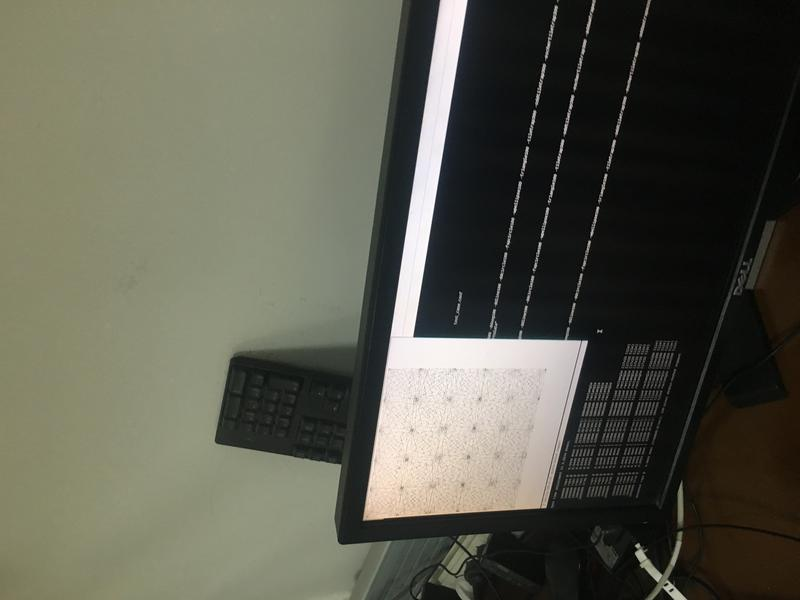xrandr_pass: (361, 318, 592, 519)
